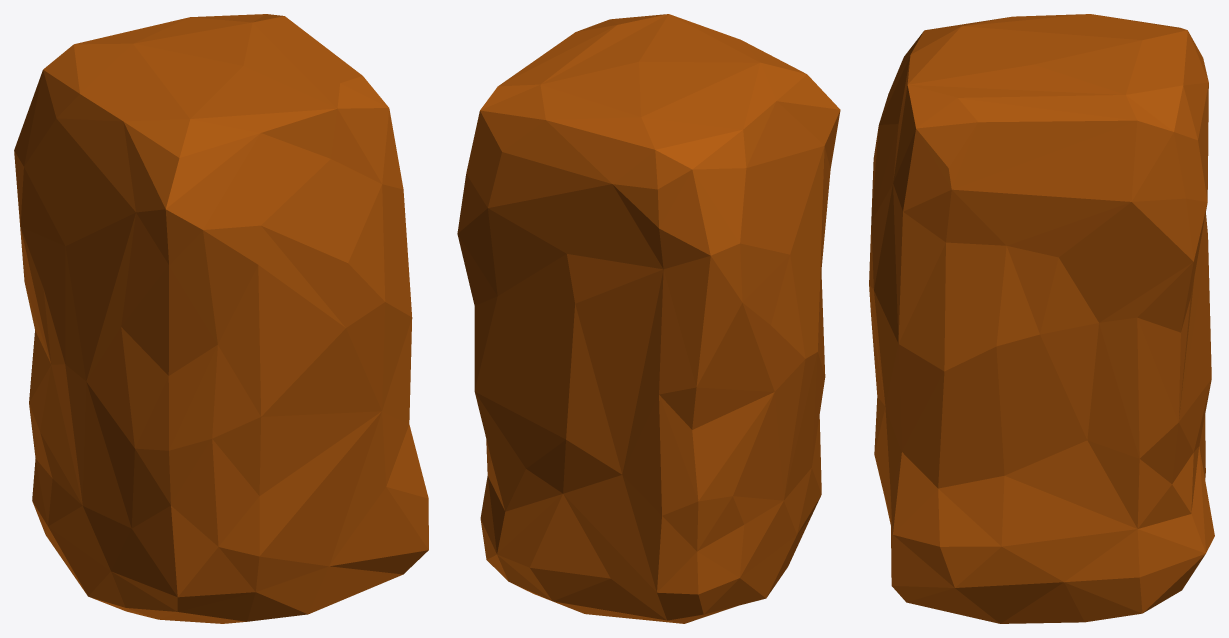
File: Boulder_5.fbx
3 renders of one model, left to right at view 1: azimuth 30°, elevation 25°; view 2: azimuth 150°, elevation 25°; view 3: azimuth 270°, elevation 25°, orthographic. The views are drawn at different scales.
Parts seen in each view (by area): view 1: Boulder_5; view 2: Boulder_5; view 3: Boulder_5.
Boxes of the visible parts, <box> form: Boulder_5: <box>14,14,428,623</box>; Boulder_5: <box>457,14,840,623</box>; Boulder_5: <box>869,14,1214,623</box>.
Size of the model in its own units: 248 by 406 by 240.
